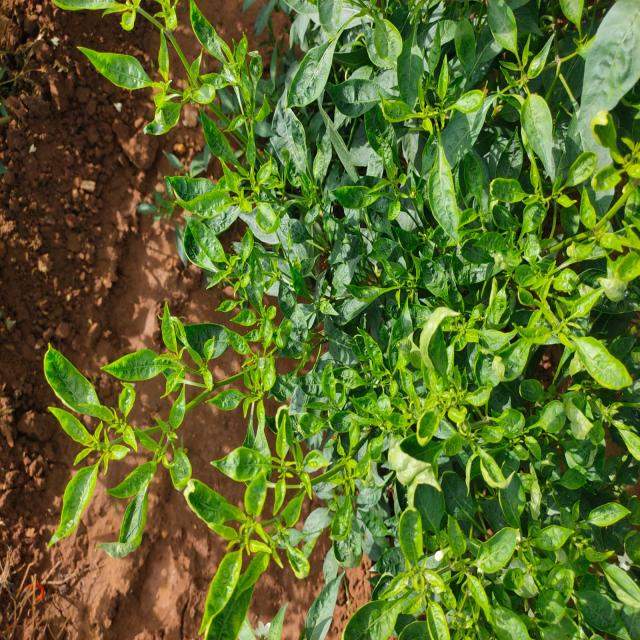Moko: (296, 295, 469, 502), (25, 291, 143, 530), (464, 216, 617, 369), (45, 0, 213, 137), (169, 94, 294, 247), (177, 449, 277, 598), (128, 268, 215, 438), (359, 58, 476, 162), (238, 356, 304, 530), (188, 294, 276, 419), (185, 0, 265, 121), (576, 89, 640, 202), (480, 24, 546, 120)
